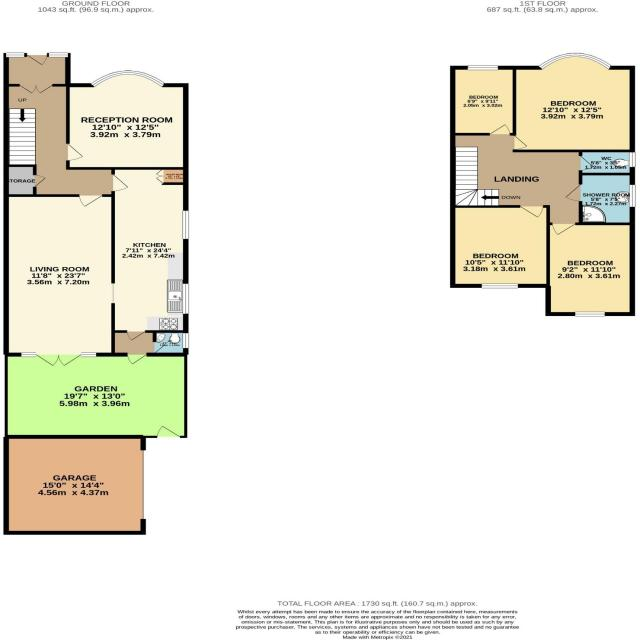DOOR: (517, 202, 547, 219), (550, 223, 580, 239), (484, 121, 513, 137), (562, 182, 583, 203), (511, 132, 531, 152), (110, 173, 130, 192), (78, 194, 103, 208), (156, 425, 181, 439), (65, 143, 84, 161), (579, 153, 596, 173), (25, 52, 48, 66), (126, 352, 148, 365), (125, 329, 147, 342)
DOUBLE DOOR: (34, 352, 83, 369)
ROOM: (110, 166, 191, 342), (64, 68, 190, 170), (514, 66, 635, 152), (546, 222, 635, 316), (450, 205, 550, 288), (450, 66, 516, 135)
WINDOW: (535, 50, 615, 72), (89, 70, 166, 88), (480, 282, 520, 290), (627, 182, 638, 208), (181, 210, 190, 240), (573, 310, 606, 318), (182, 283, 190, 315), (467, 64, 500, 71), (628, 150, 637, 169), (181, 333, 190, 349), (48, 52, 69, 58), (5, 52, 25, 58), (80, 351, 97, 358), (21, 351, 37, 358)
